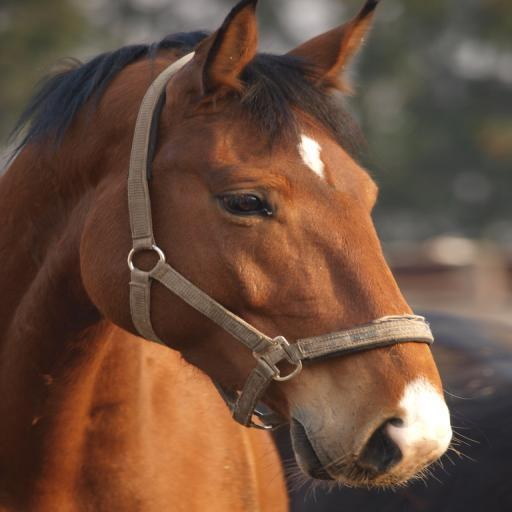horse: (0, 0, 487, 511)
